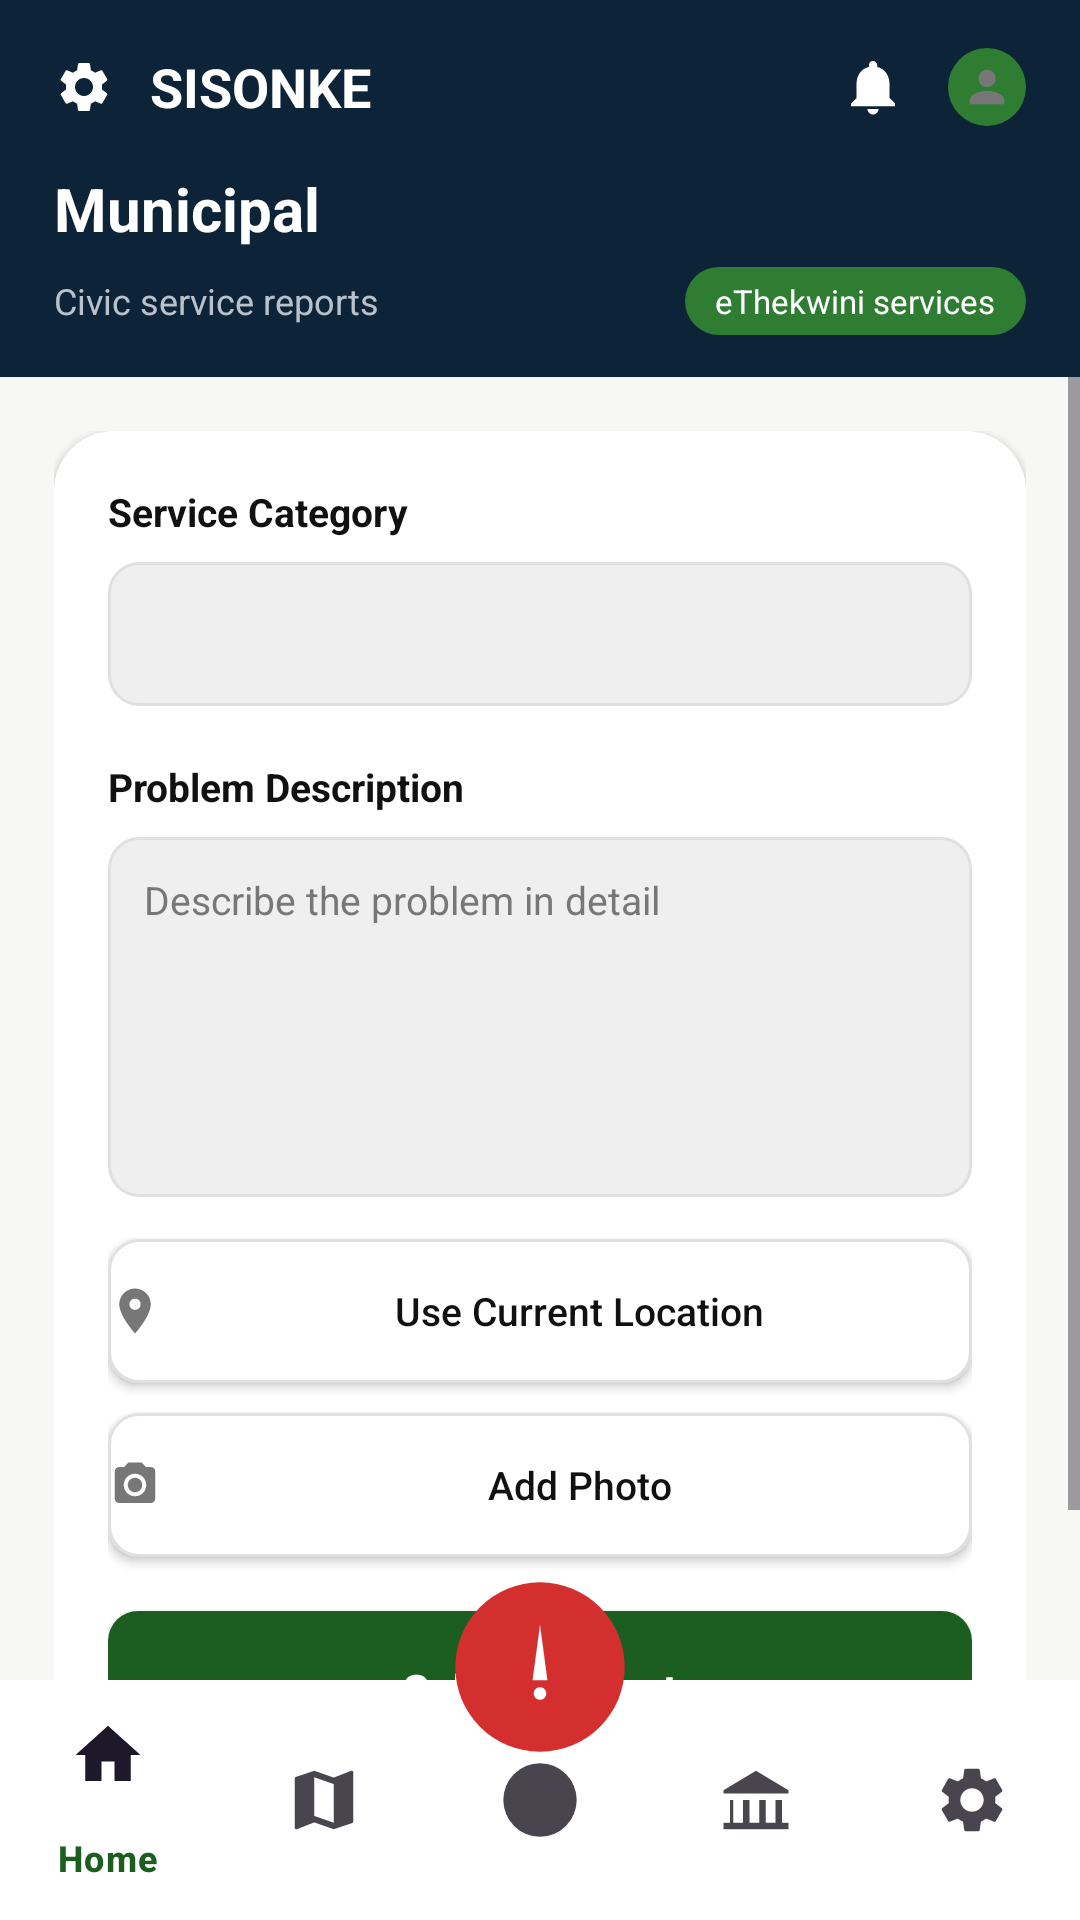

Icon bounding boxes for this 1080 × 1920 phone screenshot, format (x1, y1, x2, y2):
Notifications: (851, 61, 895, 115)
Profile: (970, 70, 1004, 104)
Settings: (60, 63, 108, 111)
SOS Emergency: (450, 1582, 630, 1752)
